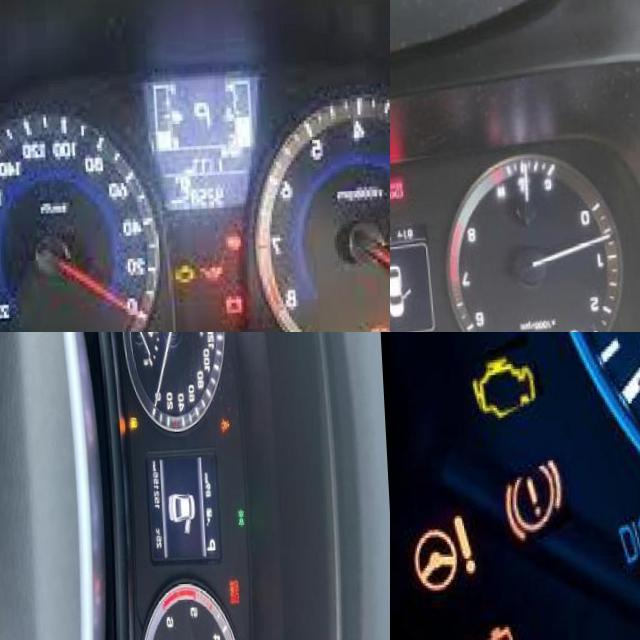Seat Belt: (217, 423, 228, 436)
